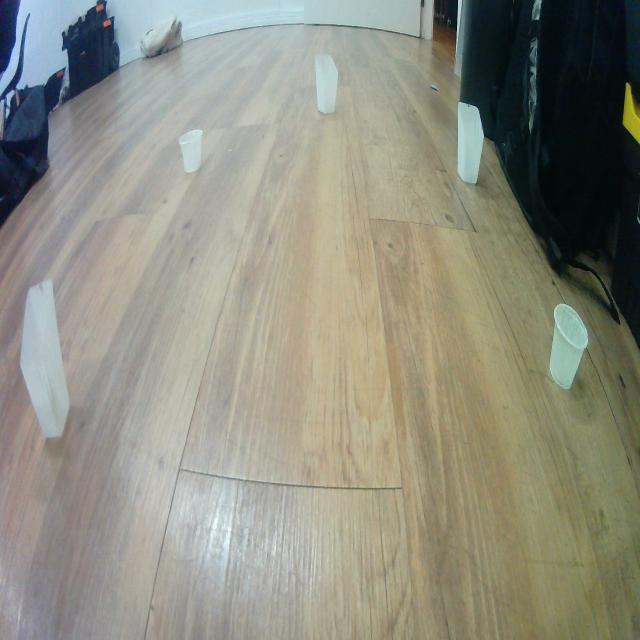erva_daninha: (19, 278, 71, 440), (456, 101, 485, 185), (314, 54, 338, 115)
planta: (548, 301, 590, 391), (178, 128, 204, 174)
